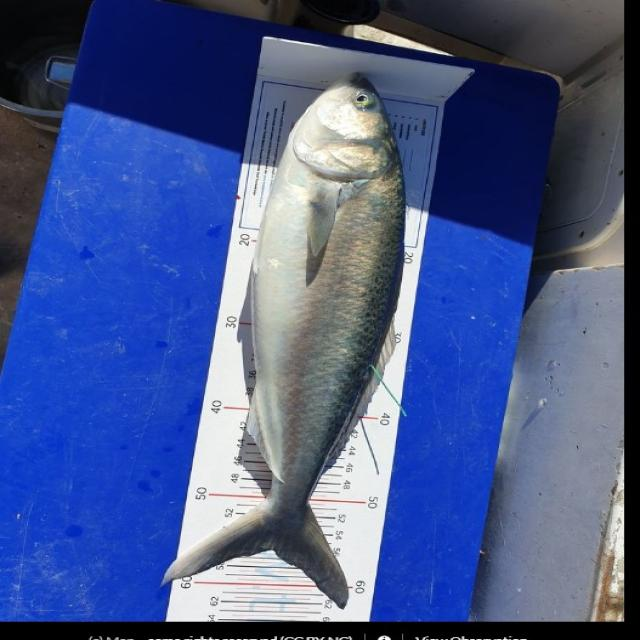Australian Salmon: (147, 59, 419, 616)
